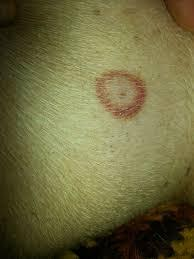Tick: (89, 57, 155, 125)
